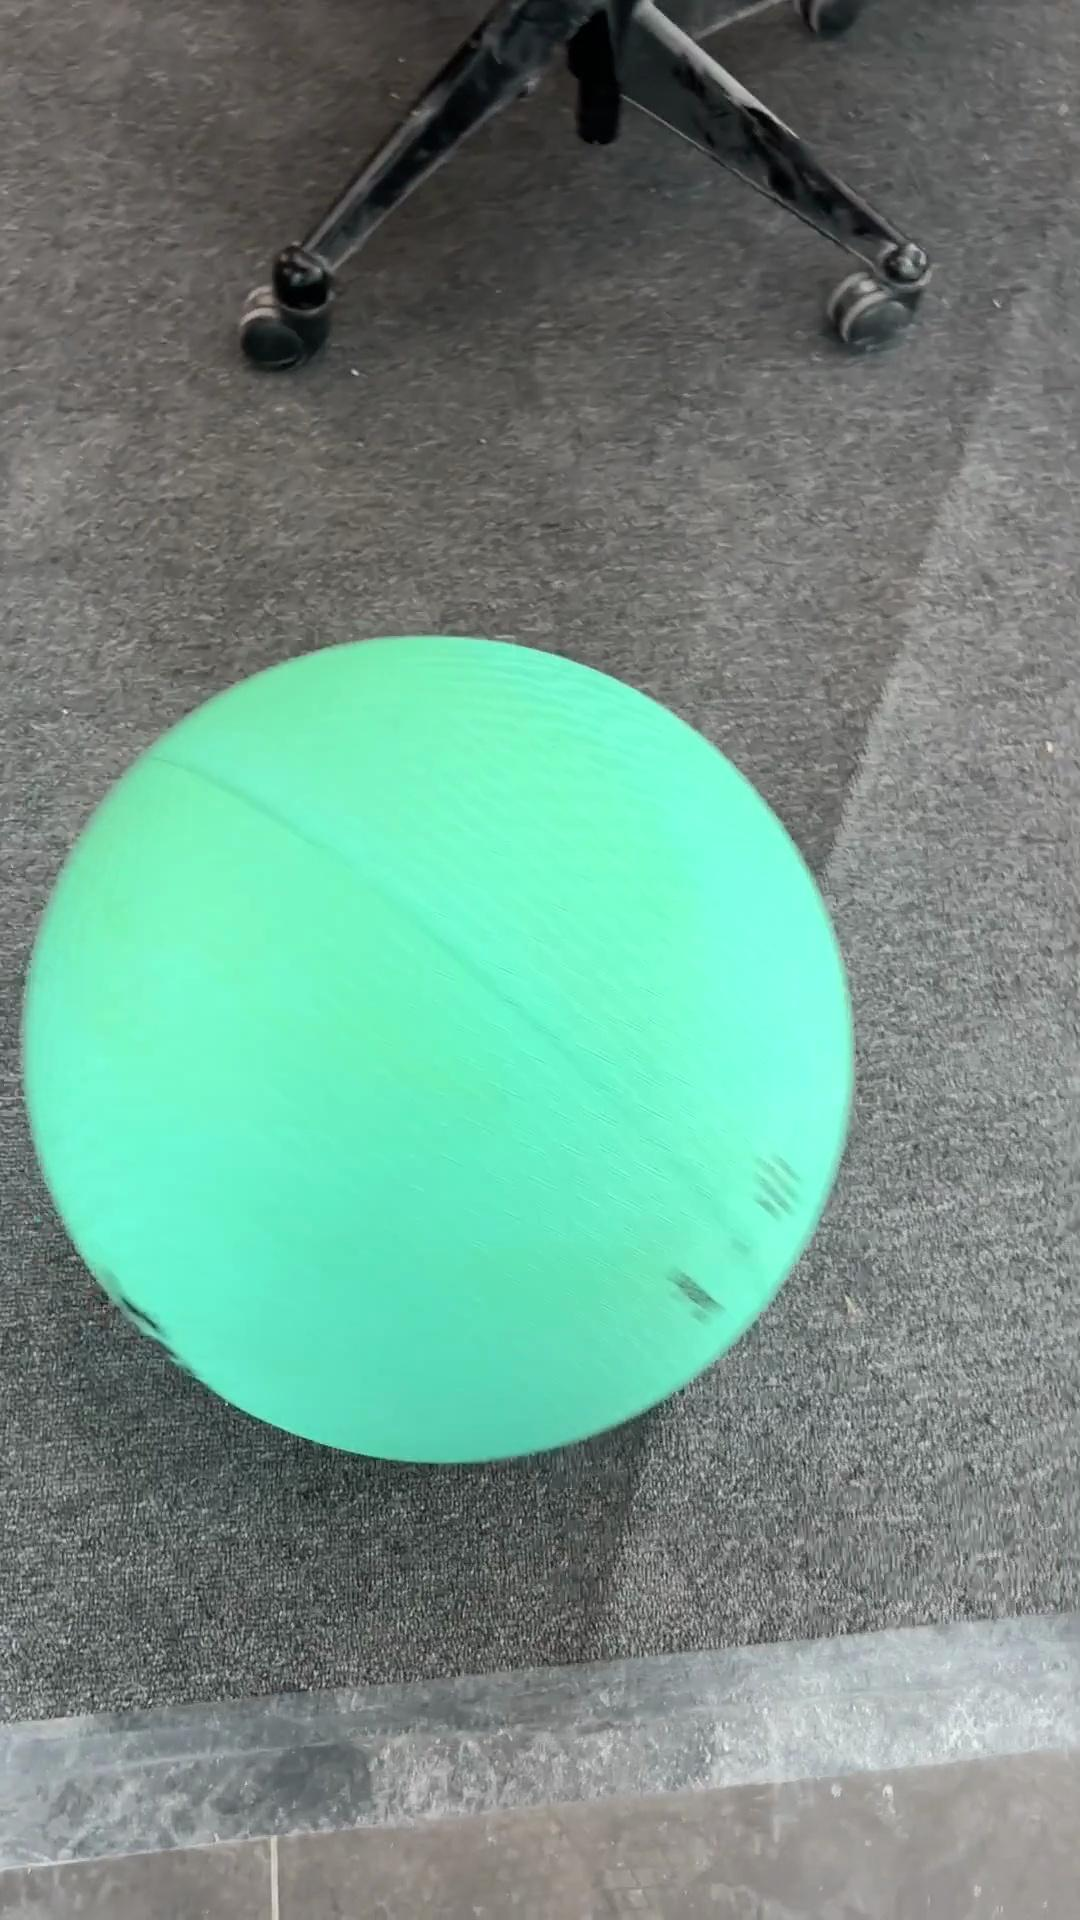ALGAE: (18, 630, 858, 1466)
